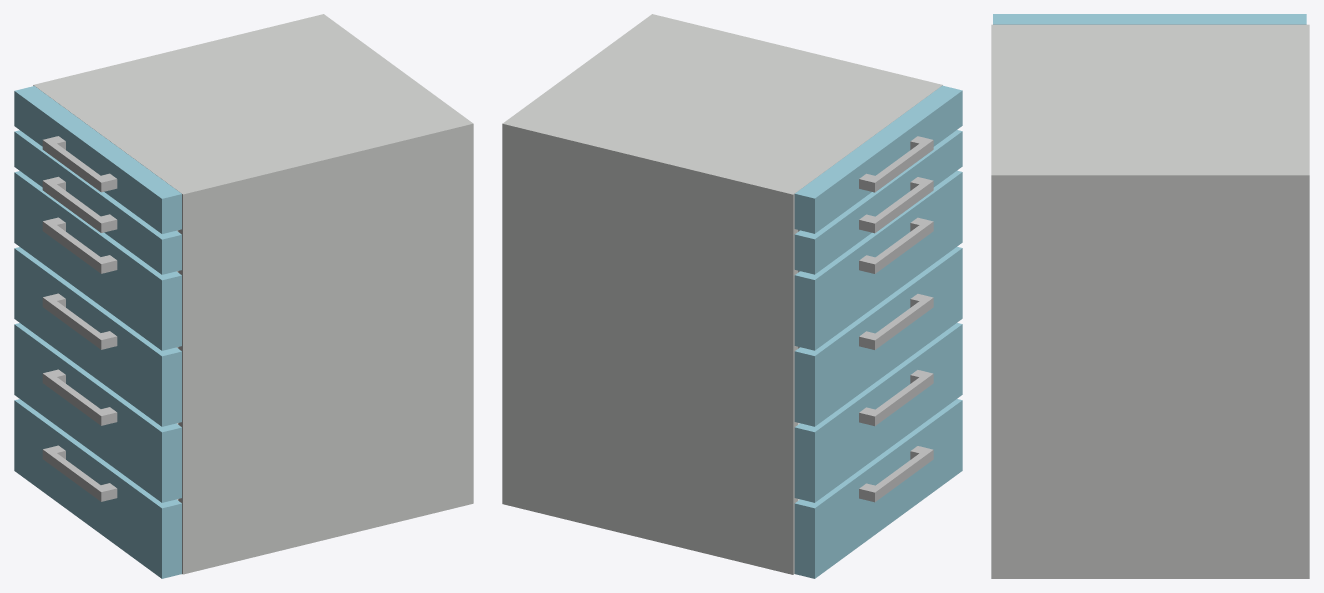
File: Counter_Drawers.fbx
3 views of the same model, side by side, from view 1: azimuth 30°, elevation 25°; view 2: azimuth 150°, elevation 25°; view 3: azimuth 270°, elevation 25° (orthographic). The views are drawn at different scales.
Parts seen in each view (by area): view 1: CounterType5, CounterType5DOORBIG.003, CounterType5DOORBIG.001, CounterType5DOORBIG.002, CounterType5DOORBIG, CounterType5DOORSMALL, CounterType5DOORSMALL.001, CounterType5DOORSMALLHandle, CounterType5DOORBIGHandle, CounterType5DOORBIGHandle.001, CounterType5DOORBIGHandle.002, CounterType5DOORBIGHandle.003 (+1 smaller); view 2: CounterType5, CounterType5DOORBIG.001, CounterType5DOORBIG.003, CounterType5DOORBIG.002, CounterType5DOORBIG, CounterType5DOORSMALL, CounterType5DOORSMALL.001, CounterType5DOORSMALLHandle, CounterType5DOORBIGHandle, CounterType5DOORBIGHandle.001, CounterType5DOORSMALLHandle.001, CounterType5DOORBIGHandle.002 (+1 smaller); view 3: CounterType5, CounterType5DOORSMALL.
Part boxes in pixels (x1=…): CounterType5: x1=33, y1=14, x2=473, y2=574; CounterType5DOORBIG.003: x1=14, y1=399, x2=181, y2=578; CounterType5DOORBIG.001: x1=14, y1=247, x2=181, y2=426; CounterType5DOORBIG.002: x1=14, y1=323, x2=181, y2=502; CounterType5DOORBIG: x1=14, y1=171, x2=181, y2=350; CounterType5DOORSMALL: x1=14, y1=86, x2=181, y2=233; CounterType5DOORSMALL.001: x1=14, y1=130, x2=181, y2=274; CounterType5DOORSMALLHandle: x1=42, y1=136, x2=117, y2=192; CounterType5DOORBIGHandle: x1=42, y1=217, x2=117, y2=273; CounterType5DOORBIGHandle.001: x1=42, y1=293, x2=117, y2=349; CounterType5DOORBIGHandle.002: x1=42, y1=369, x2=117, y2=425; CounterType5DOORBIGHandle.003: x1=42, y1=445, x2=117, y2=501; CounterType5: x1=502, y1=14, x2=942, y2=574; CounterType5DOORBIG.001: x1=794, y1=246, x2=962, y2=426; CounterType5DOORBIG.003: x1=794, y1=399, x2=962, y2=578; CounterType5DOORBIG.002: x1=794, y1=323, x2=962, y2=502; CounterType5DOORBIG: x1=794, y1=170, x2=962, y2=350; CounterType5DOORSMALL: x1=794, y1=85, x2=962, y2=233; CounterType5DOORSMALL.001: x1=794, y1=130, x2=962, y2=274; CounterType5DOORSMALLHandle: x1=859, y1=136, x2=933, y2=192; CounterType5DOORBIGHandle: x1=859, y1=217, x2=933, y2=273; CounterType5DOORBIGHandle.001: x1=859, y1=294, x2=933, y2=349; CounterType5DOORSMALLHandle.001: x1=859, y1=177, x2=933, y2=233; CounterType5DOORBIGHandle.002: x1=859, y1=370, x2=933, y2=426; CounterType5: x1=991, y1=24, x2=1309, y2=578; CounterType5DOORSMALL: x1=993, y1=14, x2=1306, y2=24.
Size of the model in its own units: 62.97 by 70 by 50.
